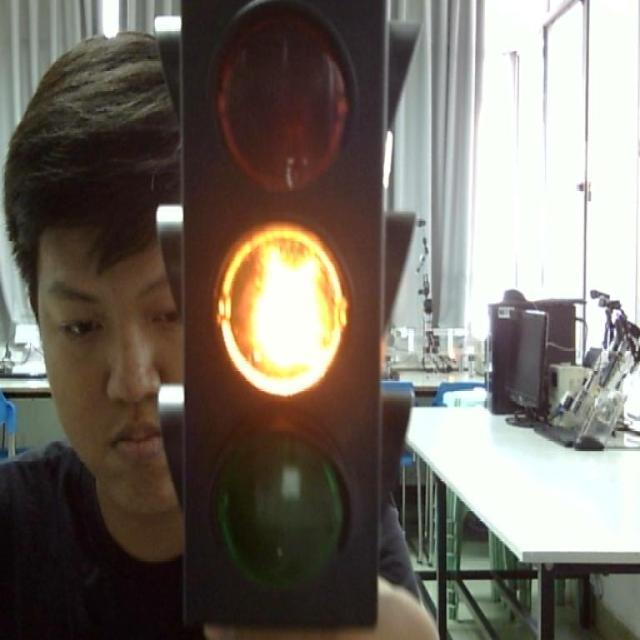yellow_light: (181, 0, 384, 624)
